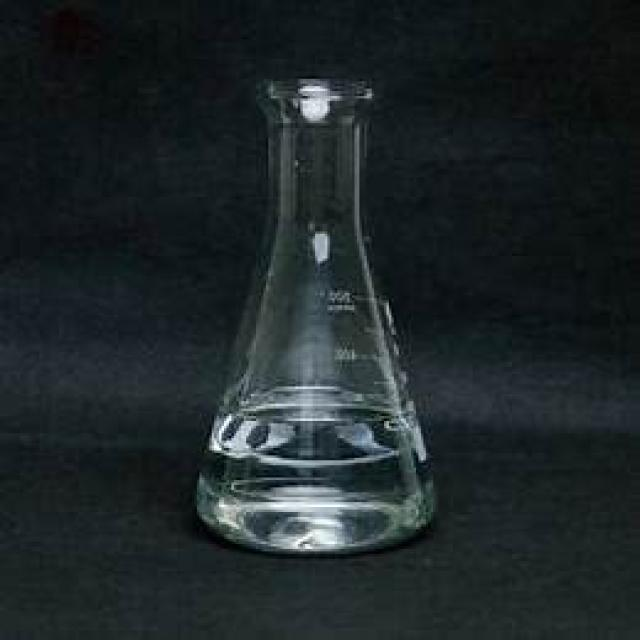Titrarion: (188, 69, 440, 557)
